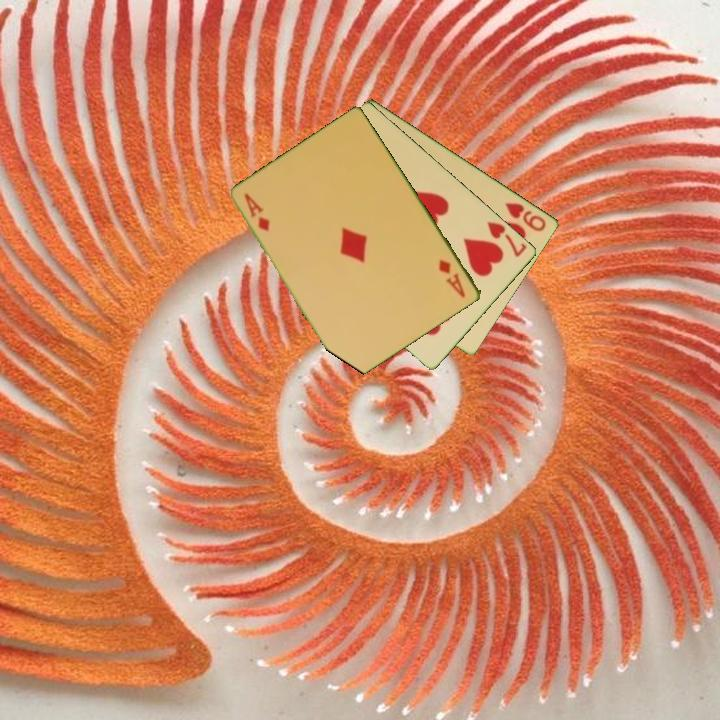7h: (484, 218, 530, 260)
9h: (502, 199, 549, 234)
Ad: (435, 256, 469, 301), (241, 190, 273, 234)
